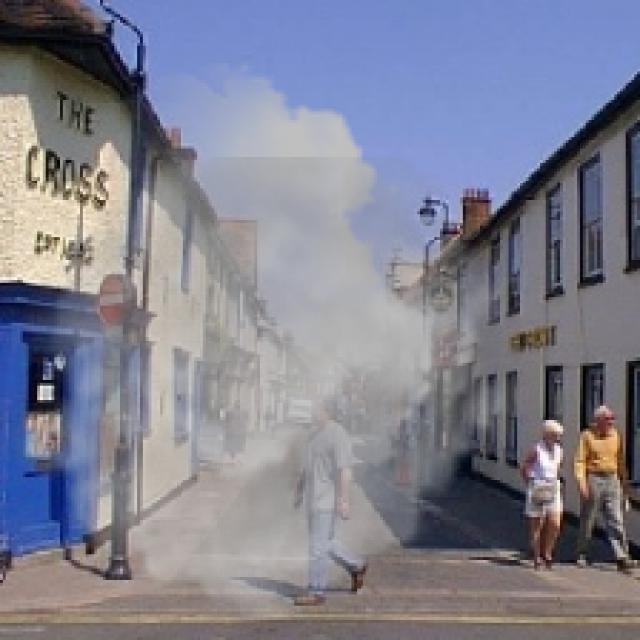Smoke: (11, 63, 528, 620)
